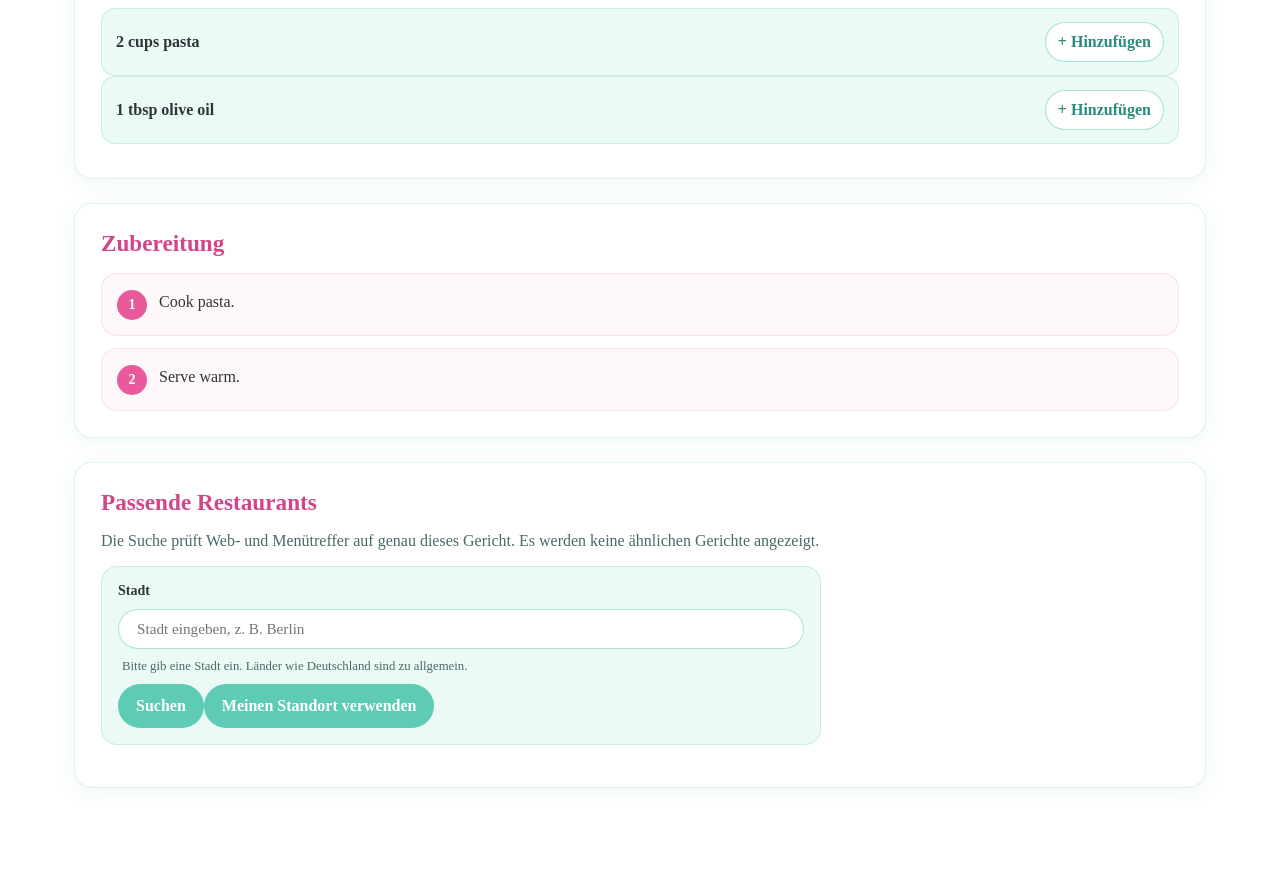
RecipeDetailView › shows location accuracy hint after GPS success
(page scrolled)
Step 1. Click the button with class "gps-button" → [319, 706], box [204,684,434,728]
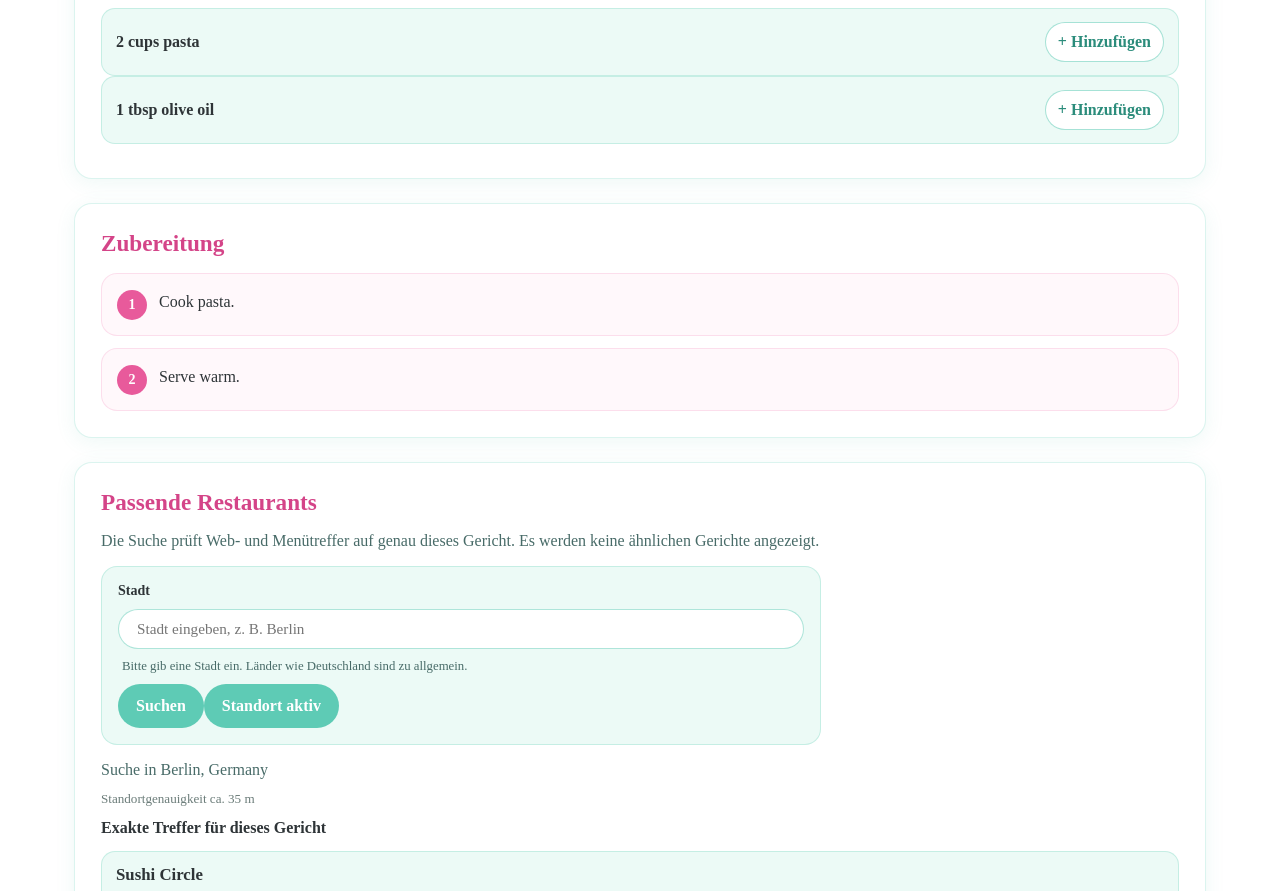
Result: the text "Suche in Berlin, Germany" is shown at [101,760,268,778]
Result: the text "Standortgenauigkeit ca. 35 m" is shown at [101,790,255,806]
